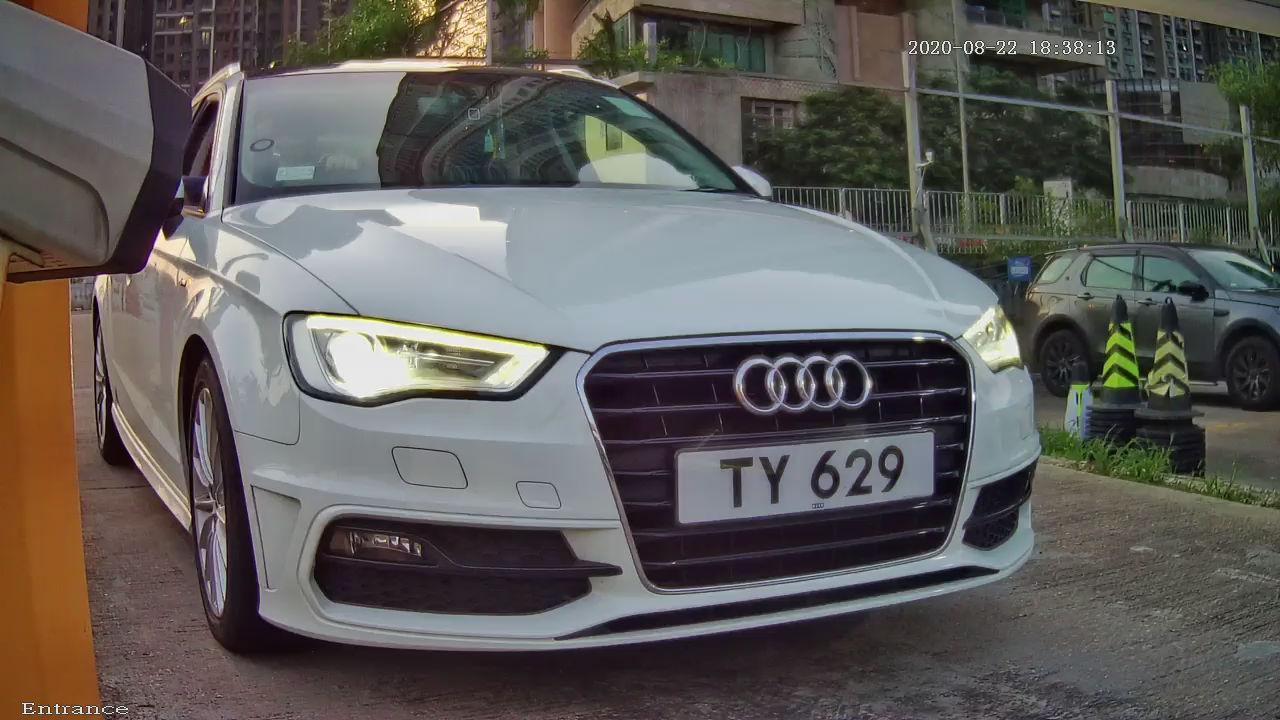Car: (46, 7, 1149, 701)
License Plate: (658, 422, 949, 531)
